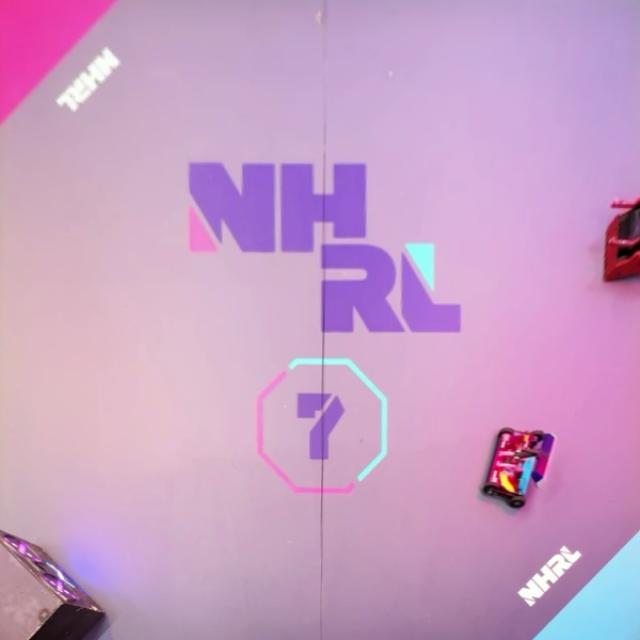housebot: (0, 530, 107, 640)
robot: (481, 425, 555, 511), (603, 194, 640, 283)
